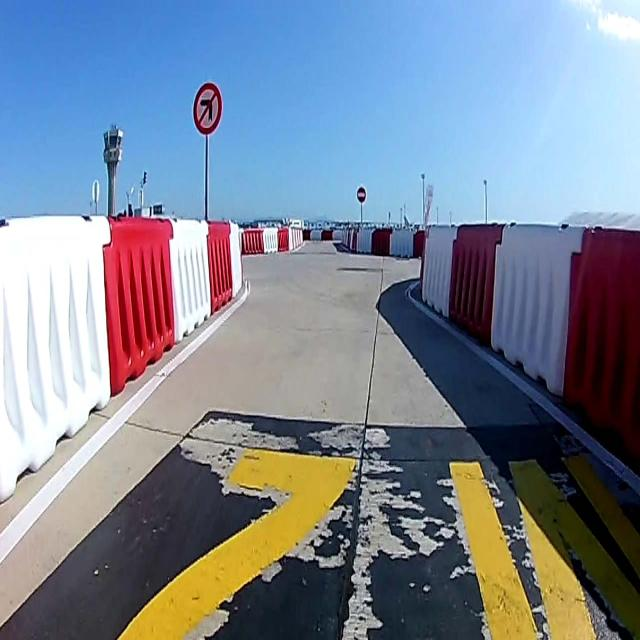girisyok: (356, 186, 366, 202)
soladonulmez: (192, 83, 222, 135)
